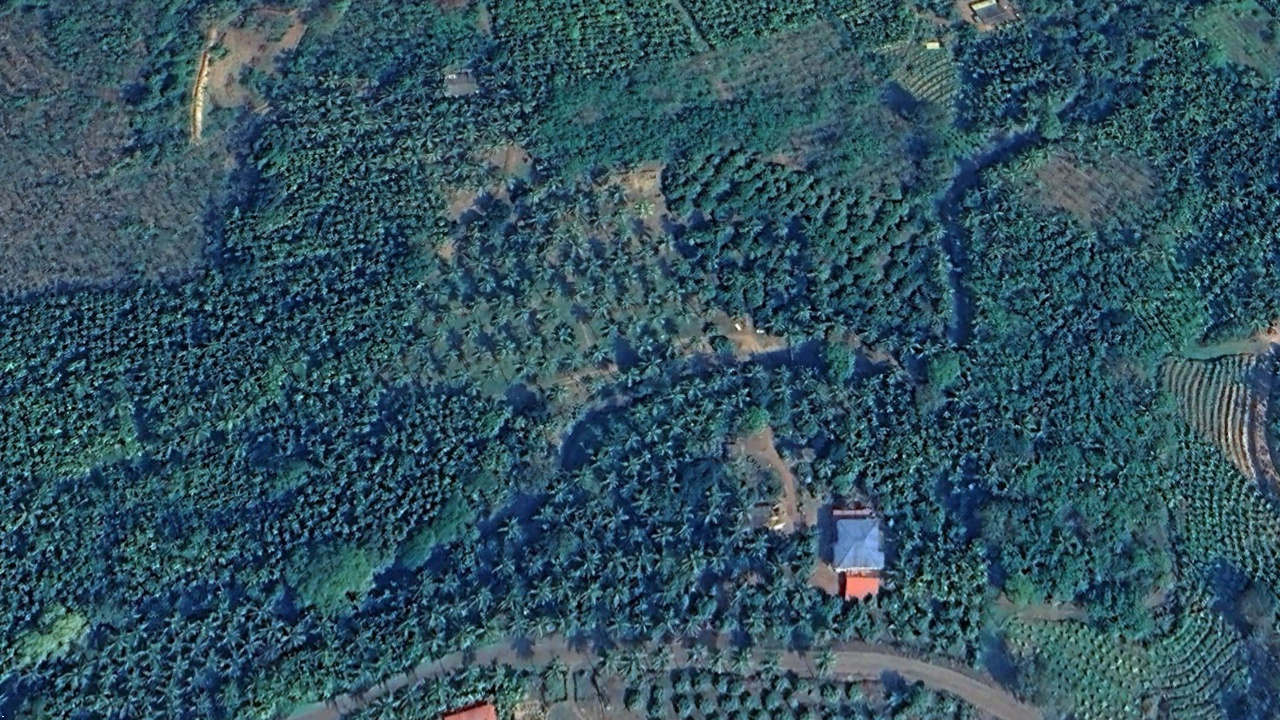arecanut: (18, 266, 817, 690), (271, 39, 634, 252), (1134, 27, 1273, 300)
